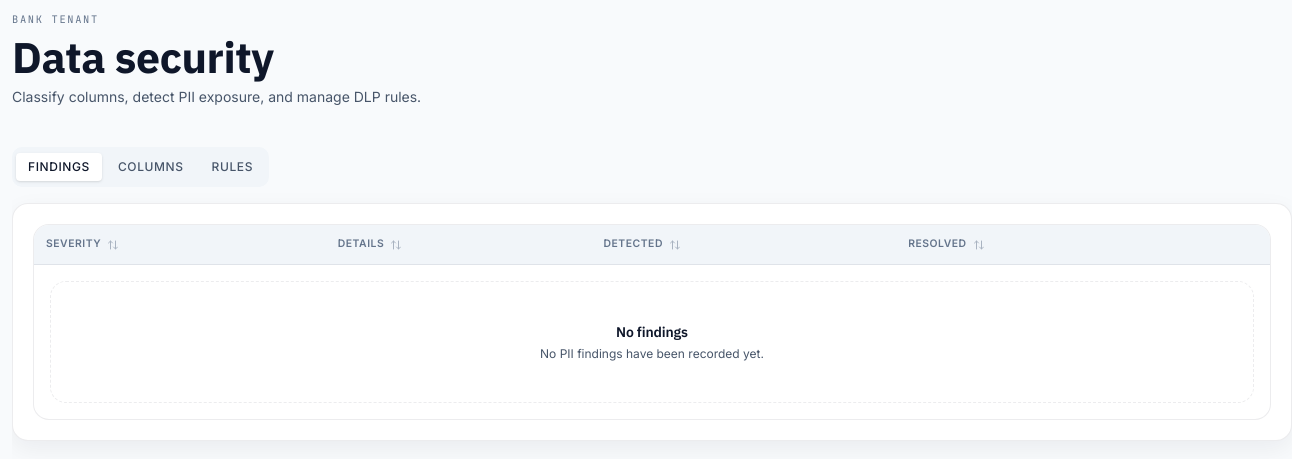
Test: DataSecurity › surfaces column scan load failures instead of showing a false empty state
The width and height of the screenshot is (1292, 459).
Click the tab "Columns". click: (151, 167)
box: top-left (106, 153), bottom-right (196, 181)
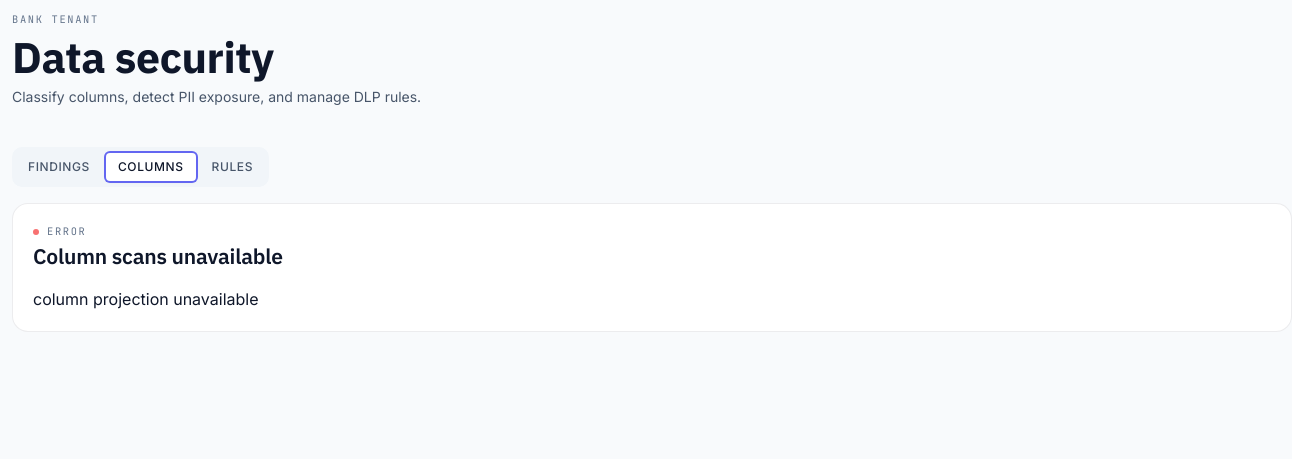
Check: the heading "Column scans unavailable" is shown, box top-left (33, 242), bottom-right (283, 270)
Check: the message reads "column projection unavailable", box top-left (33, 289), bottom-right (258, 309)
